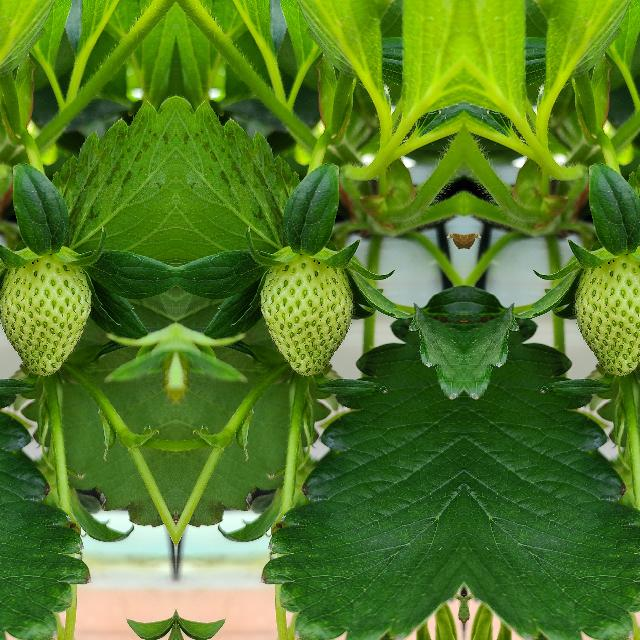Health_25: (260, 255, 352, 375), (0, 255, 89, 375), (574, 255, 640, 375)
